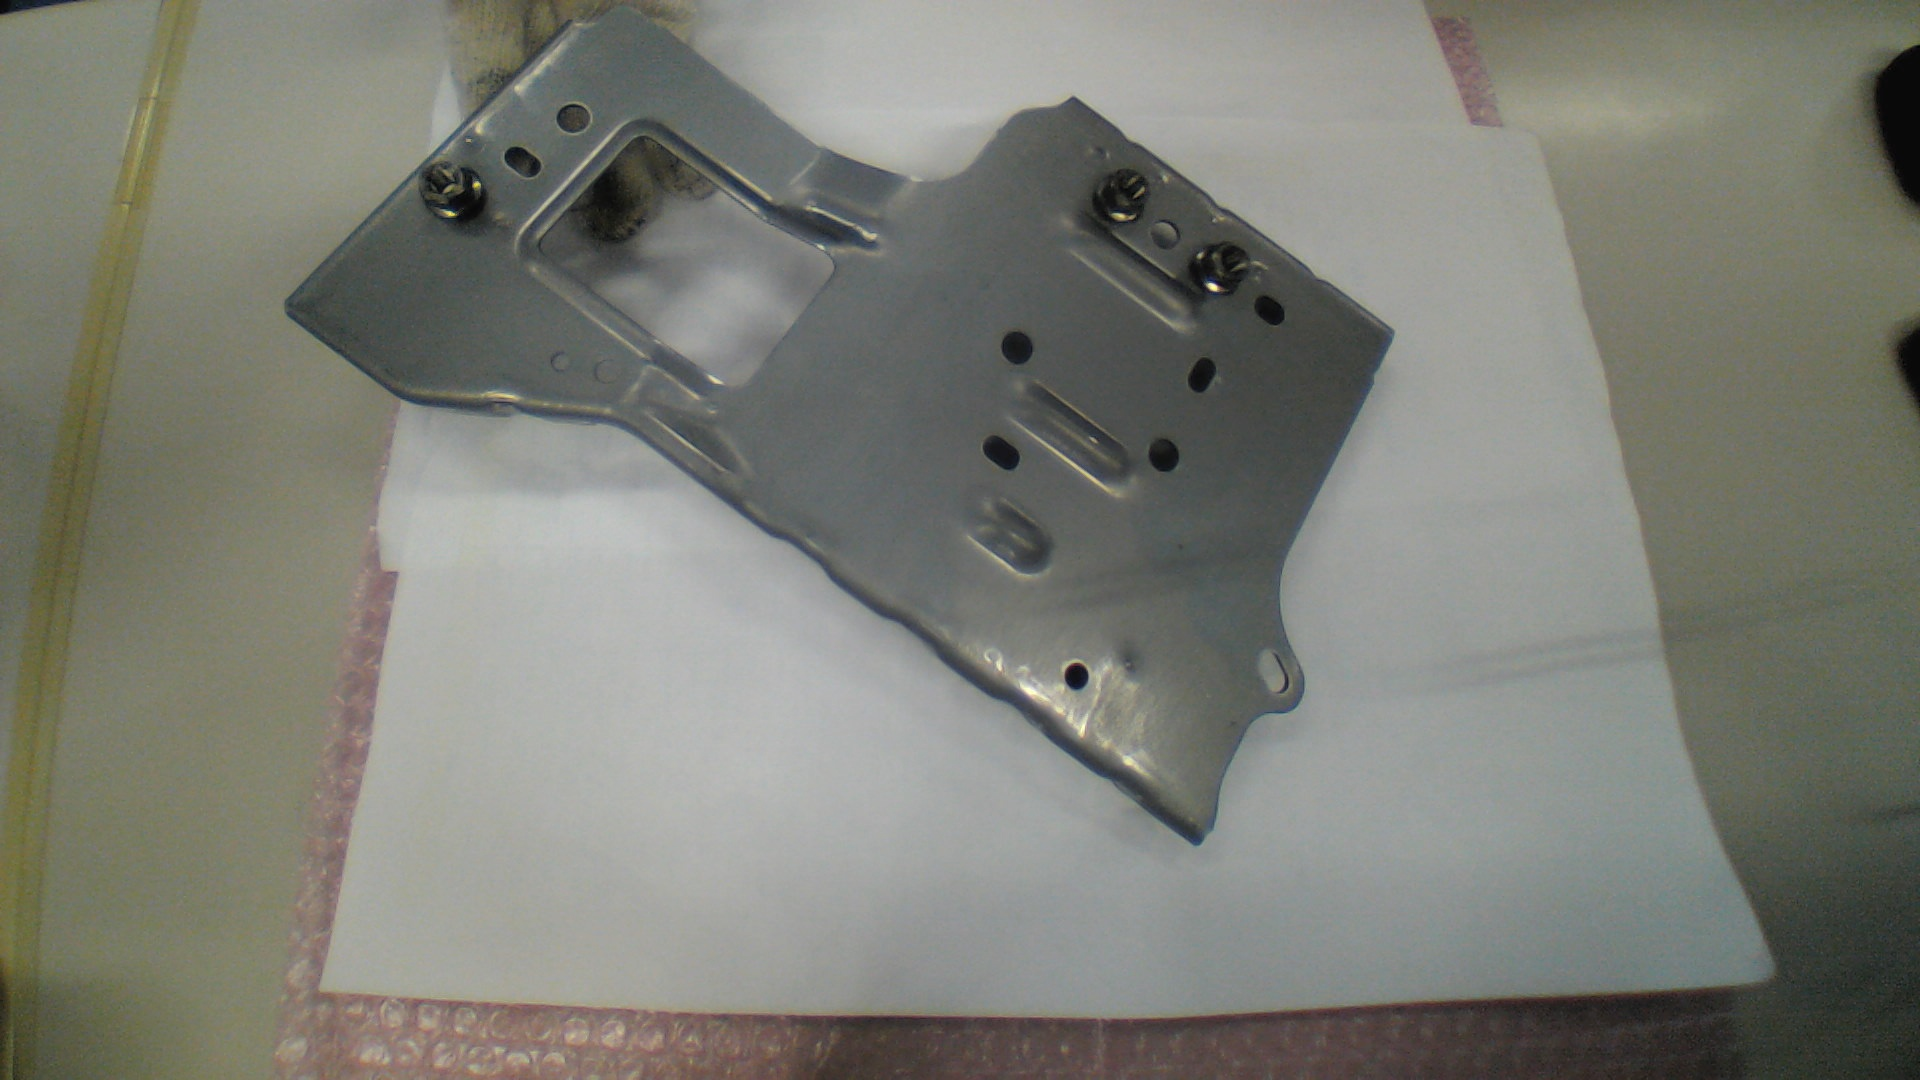dog: (418, 160, 487, 222), (1191, 243, 1250, 295), (1095, 170, 1147, 225)
